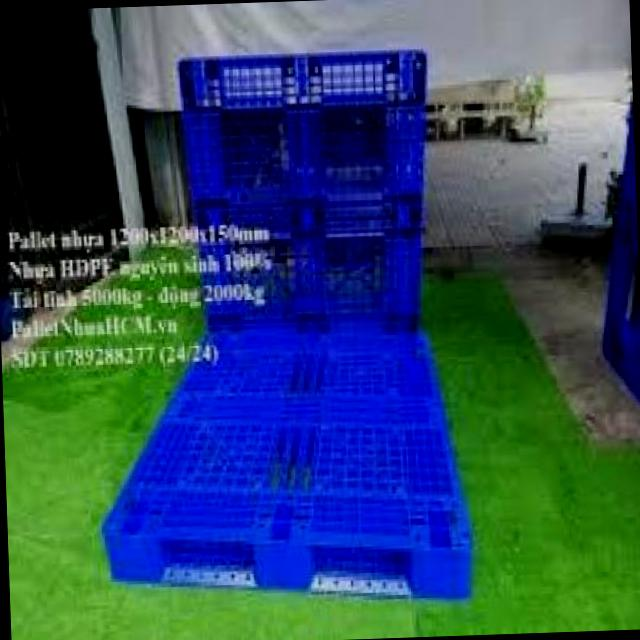pallet: (116, 317, 503, 613), (141, 25, 478, 344)
